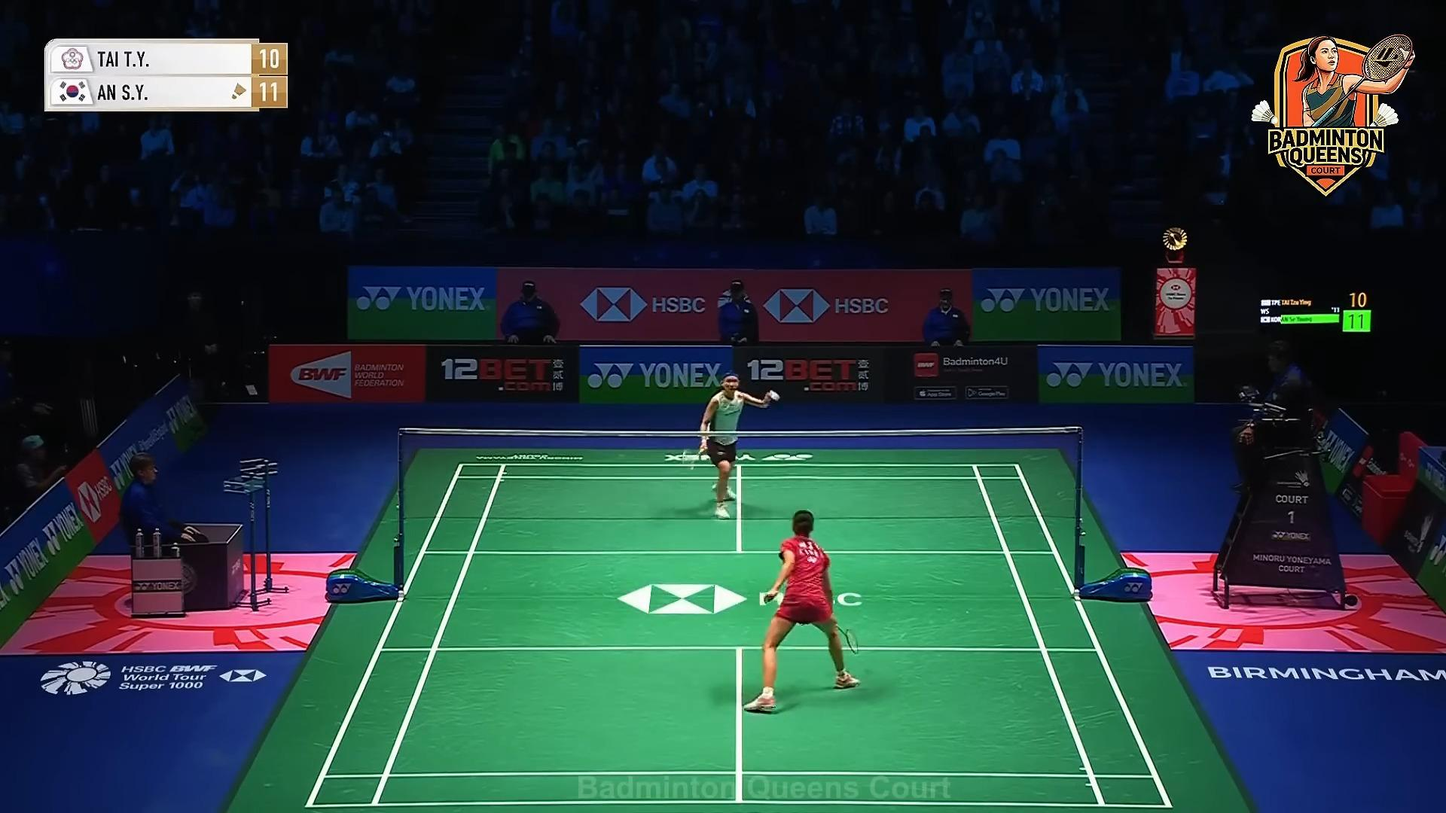player: (742, 510, 859, 713), (699, 363, 778, 521)
shuttlecock: (769, 390, 781, 402)
